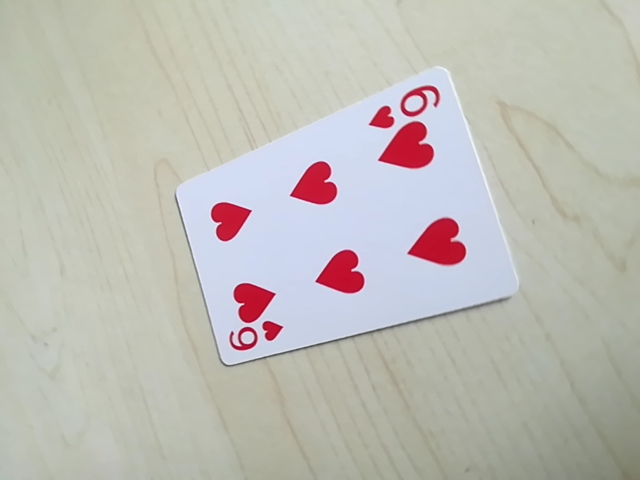hx 6: (366, 82, 445, 130), (223, 320, 286, 360)
